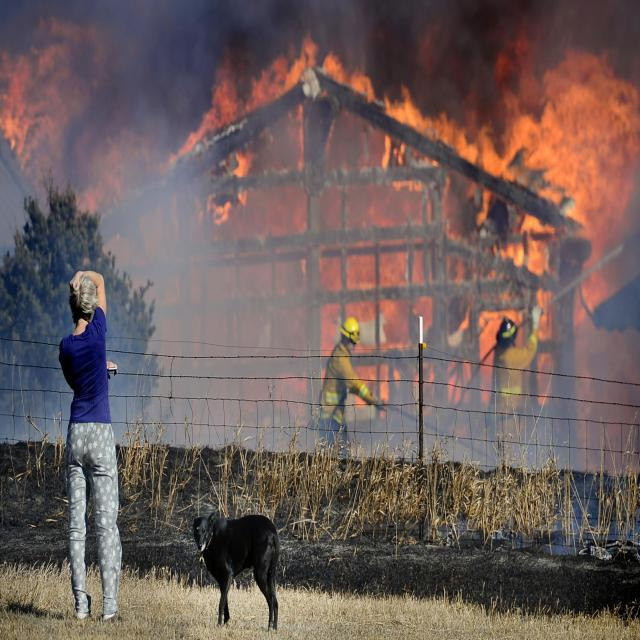Fire: (198, 14, 601, 322), (0, 45, 72, 157)
